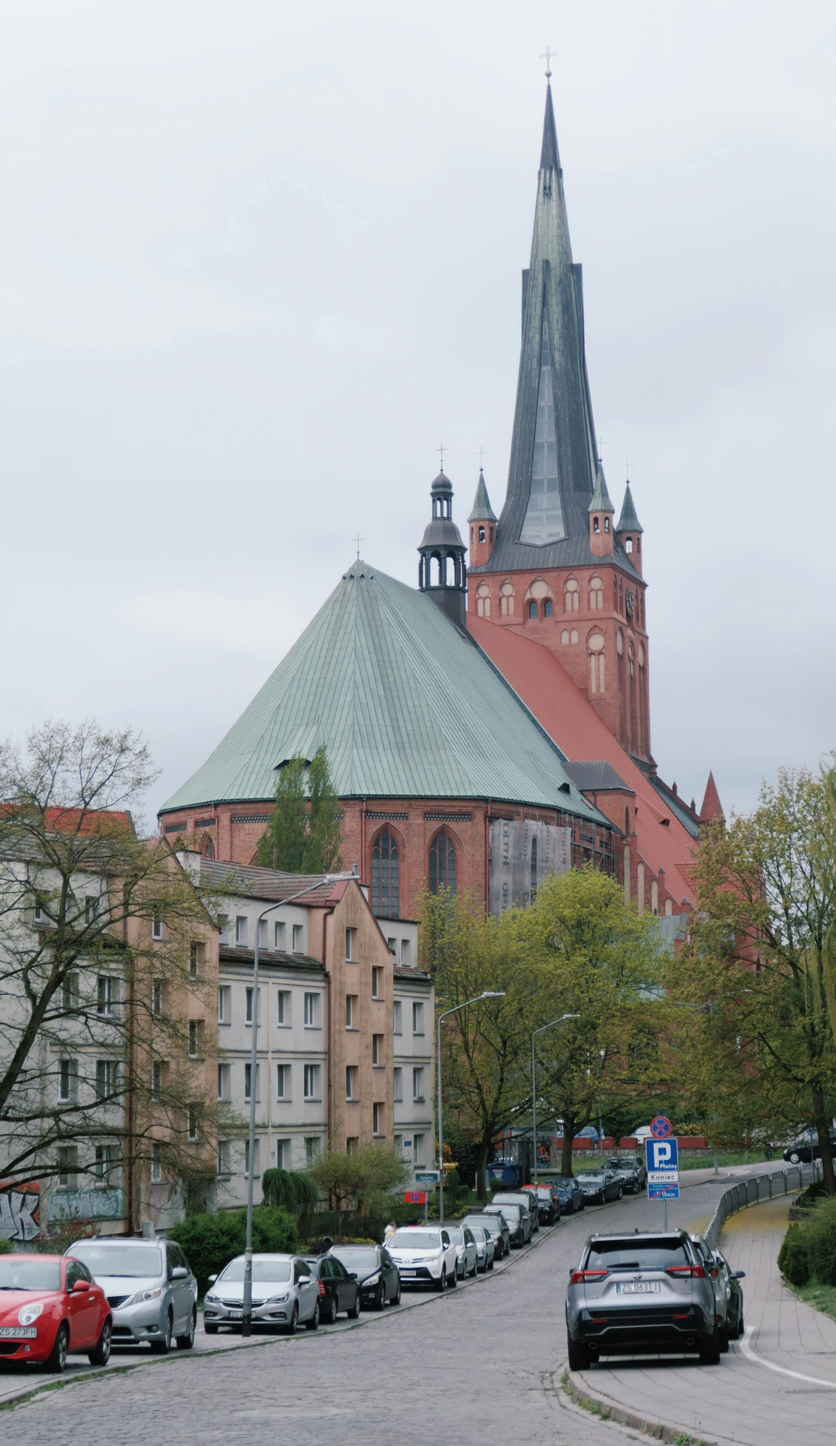other: (562, 1228, 731, 1373), (77, 1238, 199, 1364), (0, 1257, 115, 1368), (211, 1260, 306, 1323), (381, 1217, 460, 1289), (330, 1240, 401, 1308)
